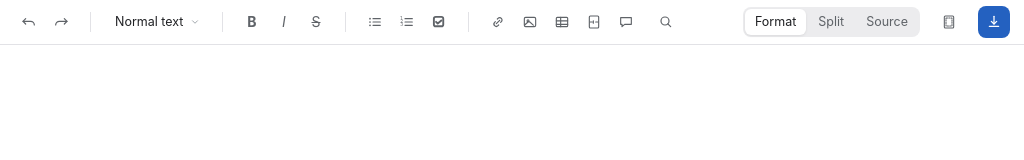
Test case: EditorToolbar › shows a Toast naming the exported file after a successful PDF export
Click the button named "Export as PDF": {"x": 994, "y": 22} [978,6,1010,38]
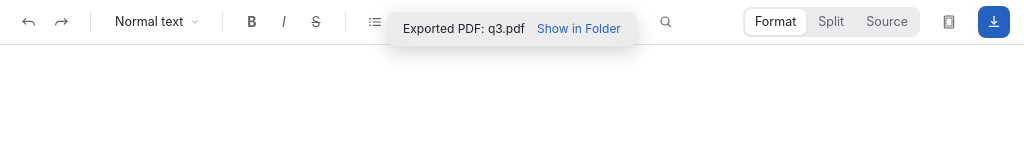
Expected: the message shows "Exported PDF: q3.pdf", [403,21,525,36]
Expected: the button "Show in Folder" is shown, [537,20,621,38]
